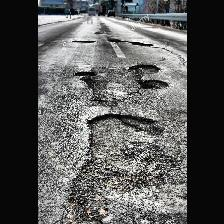pothole: (83, 112, 177, 194), (136, 78, 168, 90), (128, 64, 160, 72), (128, 42, 152, 46), (73, 72, 95, 76), (108, 39, 125, 43), (70, 40, 93, 42), (103, 28, 109, 32)
